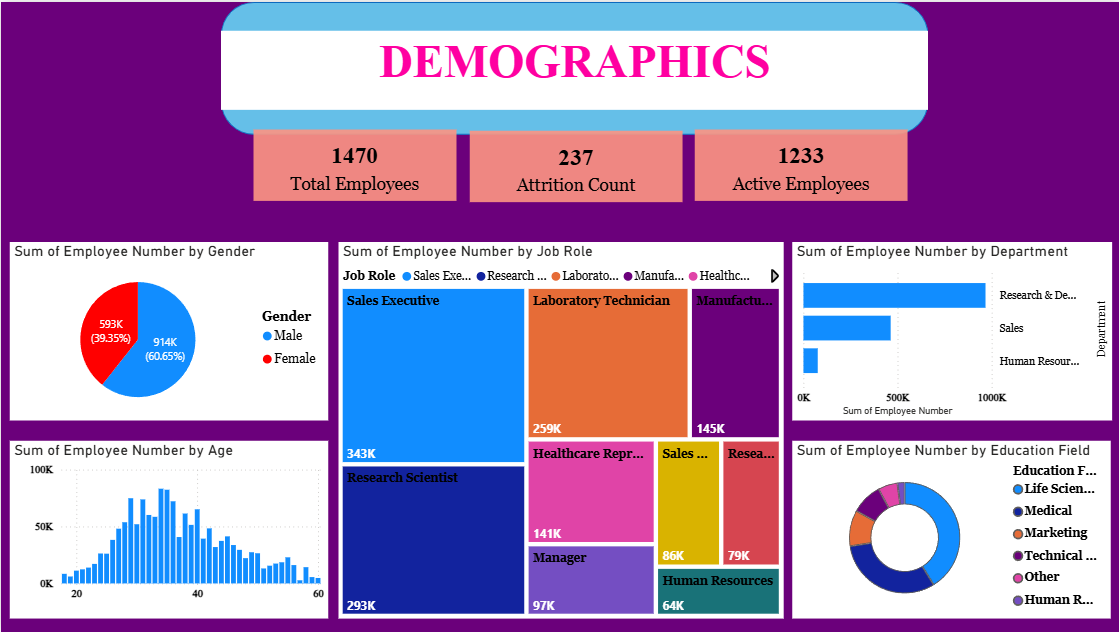

What the dashboard file says about the page in this screenshot:
{"tool":"powerbi","page":{"name":"Page 2","canvas":[1280,720],"ordinal":1},"visuals":[{"type":"shape","box":[251.7,0,808.3,151.7],"z":0},{"type":"textbox","box":[251.7,33.3,808.3,90],"z":1000},{"type":"card","fields":{"Values":["HR-Employee-Attrition.Total Employees"]},"box":[288.3,145,231.7,81.7],"z":2000},{"type":"card","fields":{"Values":["HR-Employee-Attrition.Active Employees"]},"box":[793.3,145,243.3,81.7],"z":3000},{"type":"card","fields":{"Values":["HR-Employee-Attrition.Attrition Count"]},"box":[535,146.7,243.3,81.7],"z":4000},{"type":"pieChart","fields":{"Category":["HR-Employee-Attrition.Gender"],"Y":["Sum(HR-Employee-Attrition.Employee Number)"]},"box":[0,273.7,364.5,192.8],"z":5000},{"type":"clusteredColumnChart","fields":{"Category":["HR-Employee-Attrition.Age"],"Y":["Sum(HR-Employee-Attrition.Employee Number)"]},"box":[0,490,364.3,192.9],"z":6000},{"type":"treemap","fields":{"Group":["HR-Employee-Attrition.Job Role"],"Values":["Sum(HR-Employee-Attrition.Employee Number)"]},"box":[385.7,274.3,508.6,430],"z":7000},{"type":"barChart","fields":{"Category":["HR-Employee-Attrition.Department"],"Y":["Sum(HR-Employee-Attrition.Employee Number)"]},"box":[914.3,274.3,365.7,192.9],"z":8000},{"type":"donutChart","fields":{"Category":["HR-Employee-Attrition.Education Field"],"Y":["Sum(HR-Employee-Attrition.Employee Number)"]},"box":[915.7,490,364.3,192.9],"z":9000}]}

Visuals, with their boxes in screenshot pixels (x1, y1, x2, y2), scaled from the page's 1280x720 canvas onto the 1119x632 screenshot:
shape: {"x1": 220, "y1": 0, "x2": 927, "y2": 133}
textbox: {"x1": 220, "y1": 29, "x2": 927, "y2": 108}
card - HR-Employee-Attrition.Total Employees: {"x1": 252, "y1": 127, "x2": 455, "y2": 199}
card - HR-Employee-Attrition.Active Employees: {"x1": 694, "y1": 127, "x2": 906, "y2": 199}
card - HR-Employee-Attrition.Attrition Count: {"x1": 468, "y1": 129, "x2": 680, "y2": 200}
pieChart - HR-Employee-Attrition.Gender x Sum(HR-Employee-Attrition.Employee Number): {"x1": 0, "y1": 240, "x2": 319, "y2": 409}
clusteredColumnChart - HR-Employee-Attrition.Age x Sum(HR-Employee-Attrition.Employee Number): {"x1": 0, "y1": 430, "x2": 318, "y2": 599}
treemap - HR-Employee-Attrition.Job Role x Sum(HR-Employee-Attrition.Employee Number): {"x1": 337, "y1": 241, "x2": 782, "y2": 618}
barChart - HR-Employee-Attrition.Department x Sum(HR-Employee-Attrition.Employee Number): {"x1": 799, "y1": 241, "x2": 1118, "y2": 410}
donutChart - HR-Employee-Attrition.Education Field x Sum(HR-Employee-Attrition.Employee Number): {"x1": 801, "y1": 430, "x2": 1118, "y2": 599}
